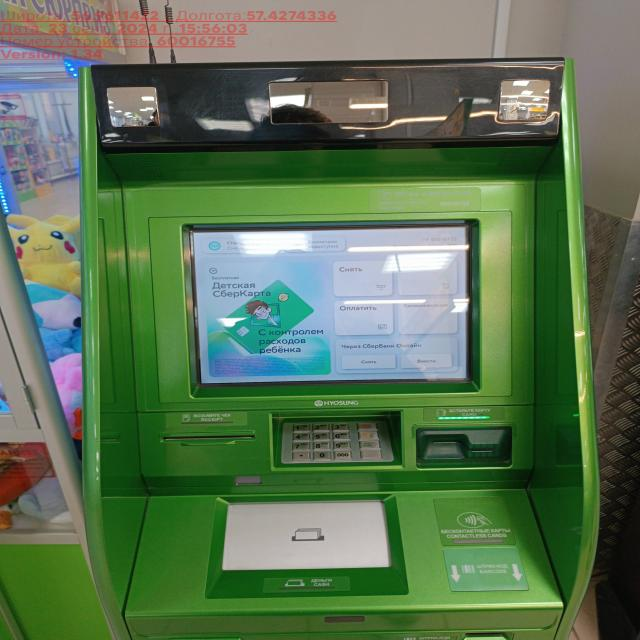bank: (73, 57, 606, 640)
